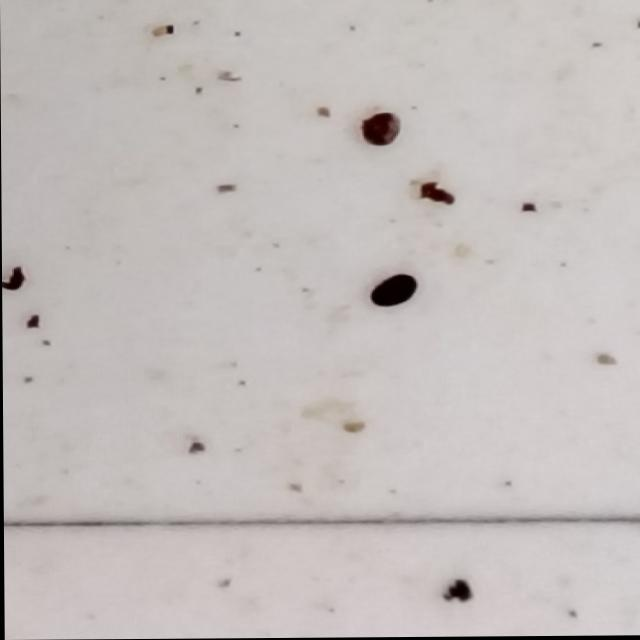varroa: (370, 272, 423, 311), (359, 110, 406, 149)
